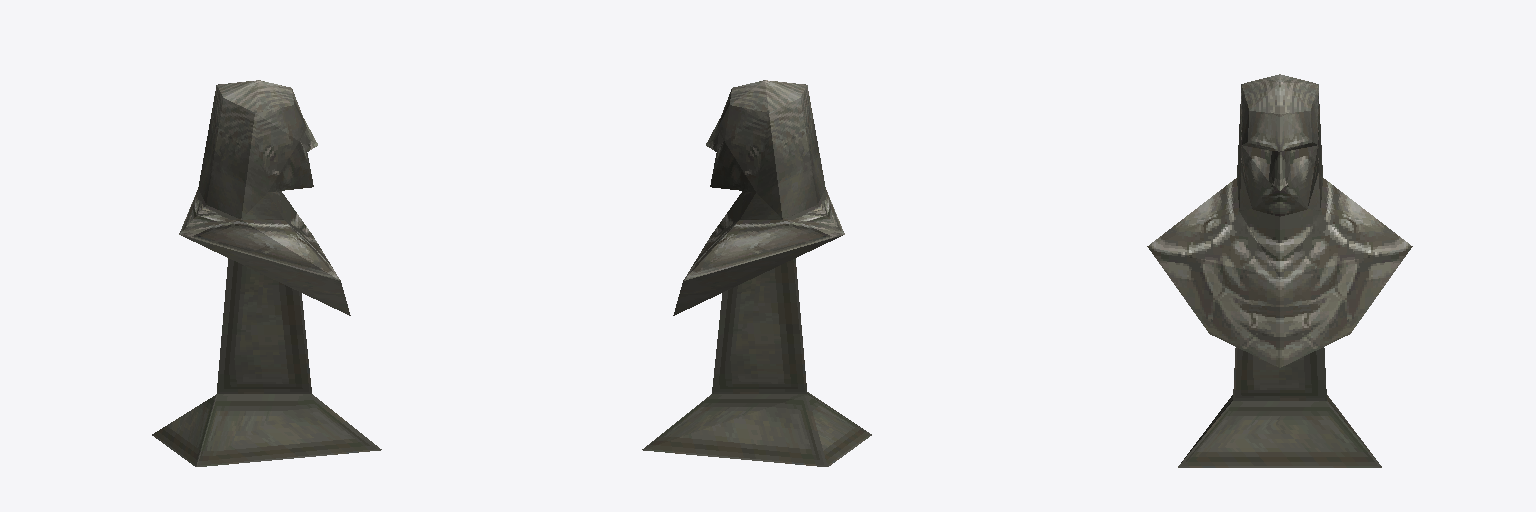
3 views of the same model, side by side, from view 1: azimuth 30°, elevation 25°; view 2: azimuth 150°, elevation 25°; view 3: azimuth 270°, elevation 25° (orthographic).
Parts seen in each view (by area): view 1: northshireabbeybust01.m2; view 2: northshireabbeybust01.m2; view 3: northshireabbeybust01.m2.
Part boxes in pixels (x1,y1,x2,y2): northshireabbeybust01.m2: (152,80,381,466); northshireabbeybust01.m2: (642,80,871,466); northshireabbeybust01.m2: (1147,74,1412,467).
Size of the model in its own units: 0.5565 by 1.13 by 0.7779.
1 materials, 1 textured.